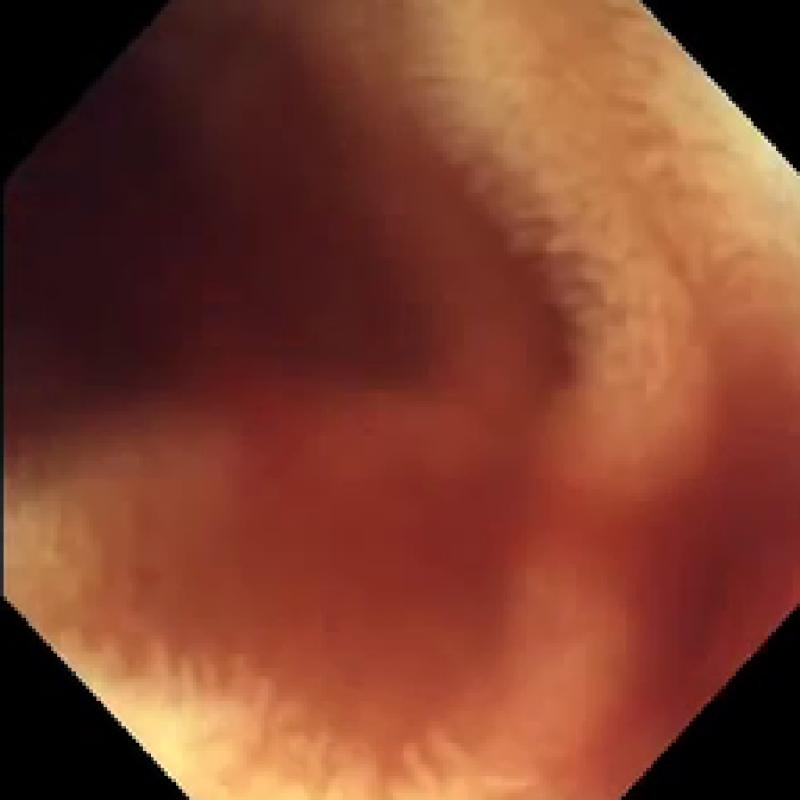bleeding: (3, 28, 800, 710)
